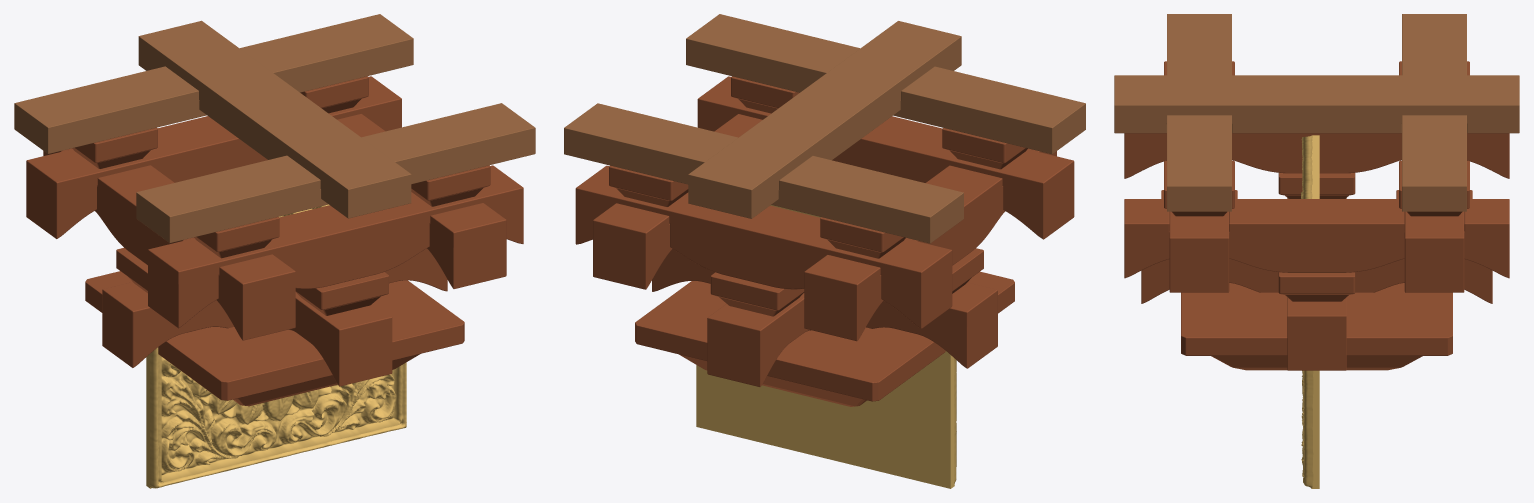
File: temple-joinery-v01.glb
The picture shows the model from 3 angles, left to right: view 1: azimuth 30°, elevation 25°; view 2: azimuth 150°, elevation 25°; view 3: azimuth 270°, elevation 25°; orthographic projection. The views are drawn at different scales.
Parts seen in each view (by area): view 1: kiku_relief_lod0, bracket_receiver_z, bracket_receiver_x_-1, bracket_receiver_x_1, bracket_upper_x_-1, bracket_daito, bracket_upper_x_1, bracket_upper_z_-1, bracket_first_x, bracket_upper_z_1, bracket_first_z, bracket_san_to_-1_1 (+5 smaller); view 2: bracket_receiver_z, kiku_relief_lod0, bracket_receiver_x_1, bracket_receiver_x_-1, bracket_upper_x_1, bracket_daito, bracket_upper_x_-1, bracket_upper_z_-1, bracket_first_x, bracket_upper_z_1, bracket_first_z, bracket_san_to_1_1 (+5 smaller); view 3: bracket_receiver_z, bracket_upper_z_1, bracket_daito, bracket_receiver_x_1, bracket_receiver_x_-1, bracket_upper_z_-1, bracket_upper_x_1, bracket_upper_x_-1, bracket_first_z, bracket_first_x, kiku_relief_lod0, bracket_san_to_1_0 (+3 smaller).
Boxes of the visible parts, x1=… form: kiku_relief_lod0: x1=146, y1=204, x2=406, y2=488; bracket_receiver_z: x1=138, y1=20, x2=411, y2=218; bracket_receiver_x_-1: x1=136, y1=103, x2=535, y2=242; bracket_receiver_x_1: x1=14, y1=14, x2=413, y2=153; bracket_upper_x_-1: x1=148, y1=165, x2=523, y2=328; bracket_daito: x1=85, y1=271, x2=464, y2=406; bracket_upper_x_1: x1=26, y1=76, x2=401, y2=238; bracket_upper_z_-1: x1=43, y1=148, x2=295, y2=340; bracket_first_x: x1=102, y1=248, x2=447, y2=367; bracket_upper_z_1: x1=337, y1=113, x2=506, y2=288; bracket_first_z: x1=288, y1=292, x2=392, y2=386; bracket_san_to_-1_1: x1=295, y1=272, x2=388, y2=315; bracket_receiver_z: x1=688, y1=21, x2=961, y2=218; kiku_relief_lod0: x1=696, y1=205, x2=956, y2=488; bracket_receiver_x_1: x1=564, y1=103, x2=963, y2=243; bracket_receiver_x_-1: x1=686, y1=14, x2=1085, y2=154; bracket_upper_x_1: x1=575, y1=165, x2=952, y2=328; bracket_daito: x1=635, y1=271, x2=1014, y2=406; bracket_upper_x_-1: x1=697, y1=76, x2=1074, y2=239; bracket_upper_z_-1: x1=804, y1=148, x2=1056, y2=341; bracket_first_x: x1=652, y1=249, x2=997, y2=368; bracket_upper_z_1: x1=593, y1=114, x2=762, y2=289; bracket_first_z: x1=707, y1=293, x2=810, y2=386; bracket_san_to_1_1: x1=710, y1=272, x2=804, y2=316; bracket_receiver_z: x1=1114, y1=75, x2=1519, y2=133; bracket_upper_z_1: x1=1124, y1=199, x2=1509, y2=278; bracket_daito: x1=1181, y1=283, x2=1452, y2=370; bracket_receiver_x_1: x1=1402, y1=14, x2=1466, y2=211; bracket_receiver_x_-1: x1=1167, y1=14, x2=1231, y2=211; bracket_upper_z_-1: x1=1124, y1=133, x2=1509, y2=178; bracket_upper_x_1: x1=1404, y1=211, x2=1464, y2=292; bracket_upper_x_-1: x1=1169, y1=211, x2=1229, y2=292; bracket_first_z: x1=1141, y1=259, x2=1492, y2=303; bracket_first_x: x1=1287, y1=198, x2=1346, y2=370; kiku_relief_lod0: x1=1301, y1=135, x2=1319, y2=488; bracket_san_to_1_0: x1=1278, y1=272, x2=1355, y2=301.
Size of what is drawn, in the model's own units: 1.44 by 1.32 by 1.43.
